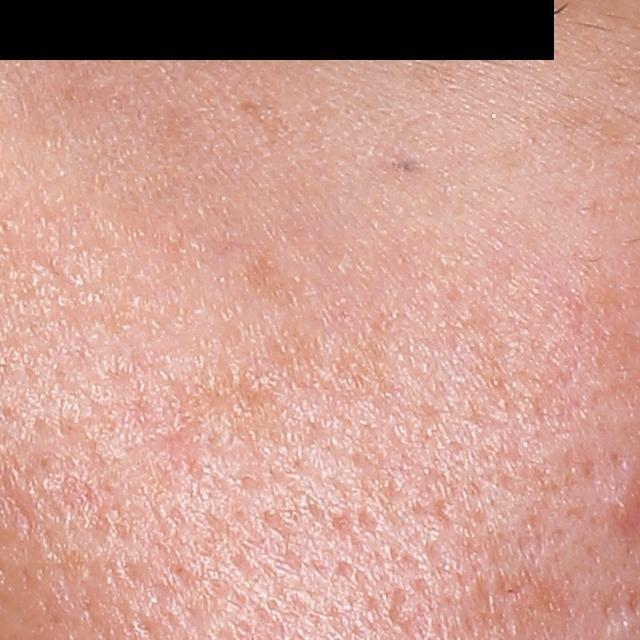melasma: (228, 249, 310, 312)
